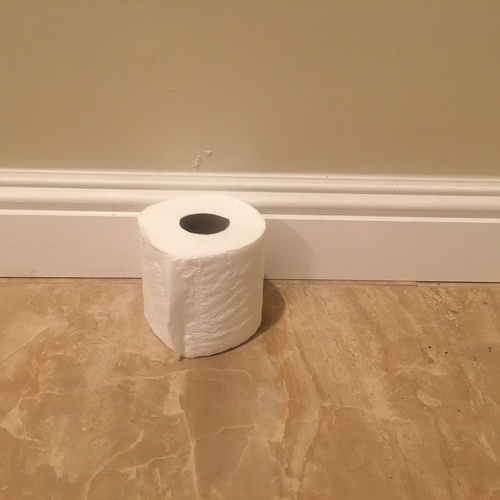roll: (137, 197, 266, 358)
